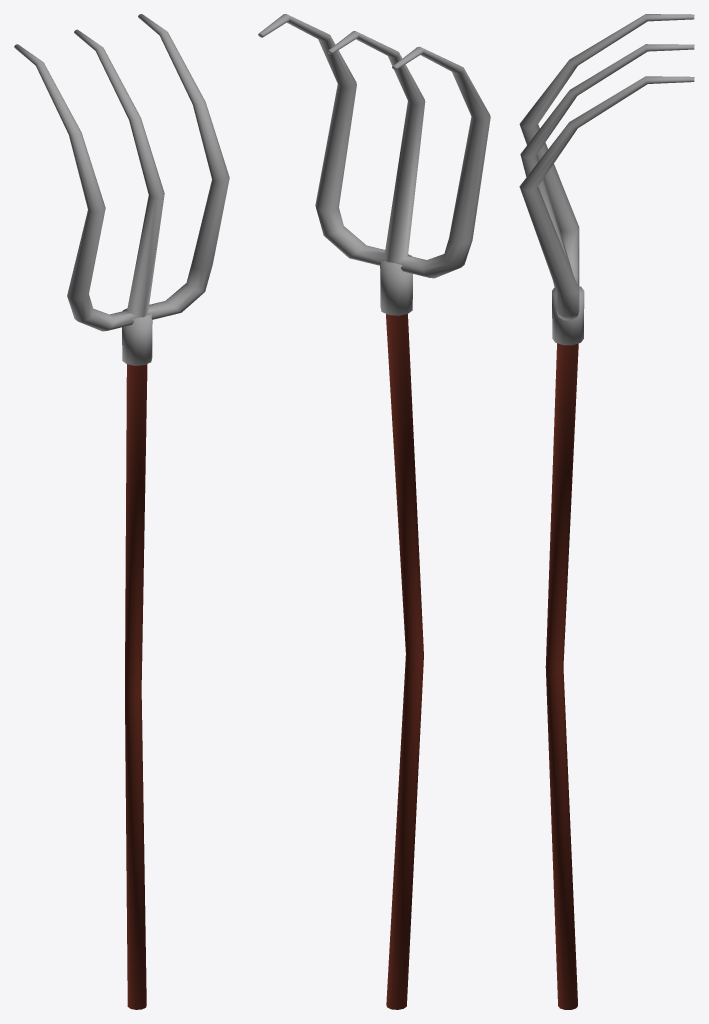
The model's file is mistgabel.fbx.
3 views of the same model, side by side, from view 1: azimuth 30°, elevation 25°; view 2: azimuth 150°, elevation 25°; view 3: azimuth 270°, elevation 25° (orthographic). The views are drawn at different scales.
Visible parts, largest first — view 1: Cylinder.001, Cylinder; view 2: Cylinder.001, Cylinder; view 3: Cylinder, Cylinder.001.
Boxes of the visible parts, box(x1,y1,x2,y2) form: Cylinder.001: box(14, 14, 229, 331); Cylinder: box(122, 308, 152, 1009); Cylinder.001: box(258, 14, 490, 278); Cylinder: box(380, 254, 423, 1009); Cylinder: box(545, 286, 584, 1009); Cylinder.001: box(519, 14, 694, 320).
Size of the model in its own units: 310 by 1939 by 320.
